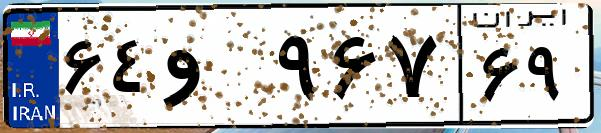4: (110, 28, 158, 98)
6: (330, 28, 385, 110), (57, 26, 110, 100), (475, 38, 525, 113)
7: (385, 28, 445, 110)
9: (270, 28, 330, 110), (525, 38, 570, 115)
و: (158, 20, 270, 120)
